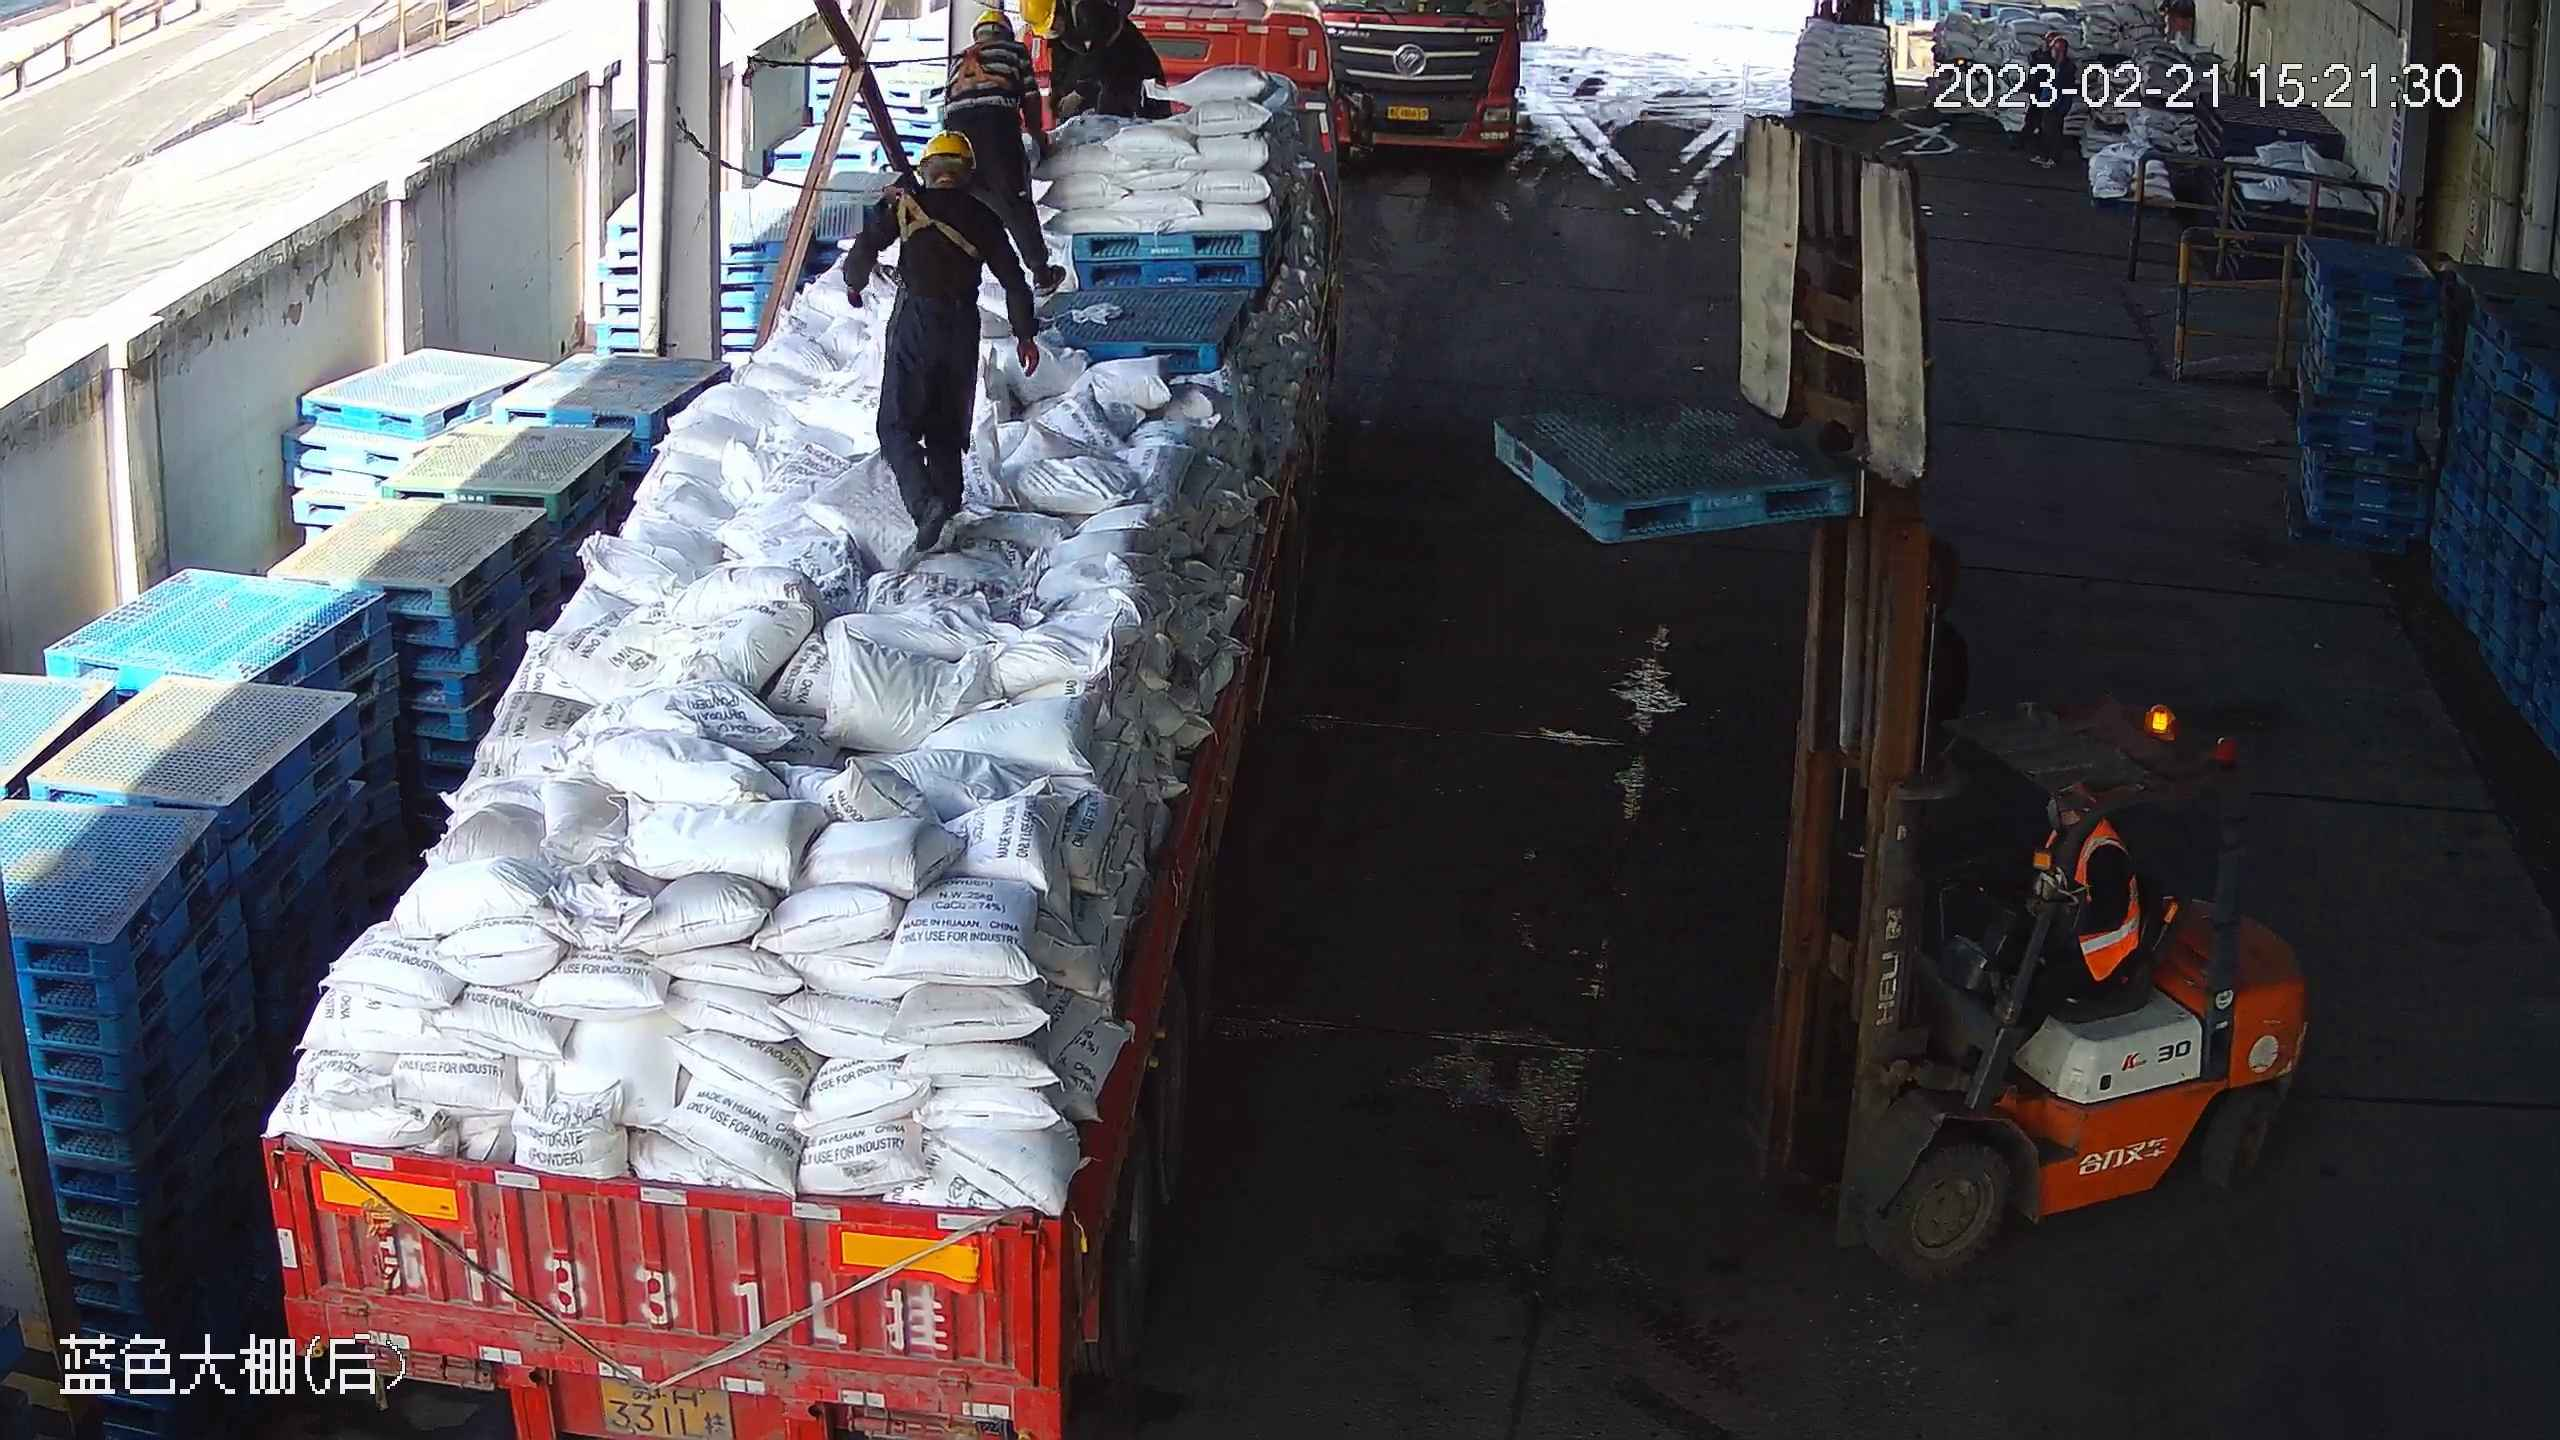belt: (879, 178, 969, 253), (949, 41, 1020, 97)
head: (904, 134, 1004, 269), (958, 8, 1028, 83)
helmet: (911, 130, 977, 165), (1011, 2, 1058, 43), (970, 8, 1011, 34)
people: (842, 129, 1044, 548), (1974, 781, 2149, 1081), (941, 2, 1069, 304)
truck: (244, 2, 1341, 1439), (1330, 1, 1530, 161)
